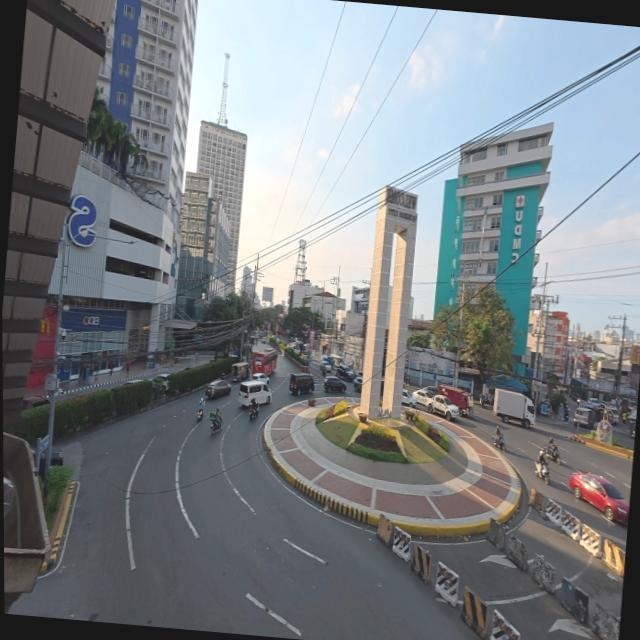Jeepneys: (231, 362, 248, 382)
bus: (251, 349, 277, 375)
car: (569, 473, 629, 524), (426, 395, 457, 420), (205, 379, 230, 398), (410, 388, 434, 406), (573, 407, 593, 428), (22, 396, 48, 410), (323, 376, 345, 392), (337, 364, 354, 381), (151, 374, 168, 391), (401, 390, 416, 408), (604, 407, 618, 424), (250, 373, 268, 386), (352, 374, 363, 392), (38, 451, 45, 477), (121, 378, 143, 386), (319, 361, 331, 375), (423, 386, 437, 397), (588, 398, 599, 408), (633, 430, 640, 444), (355, 371, 362, 379), (288, 342, 295, 349), (260, 337, 267, 344), (320, 355, 327, 361)
motorcycle: (533, 462, 550, 485), (543, 445, 559, 465), (479, 393, 494, 409), (209, 414, 221, 433), (492, 434, 504, 452), (629, 422, 640, 438), (248, 405, 257, 420), (196, 407, 204, 423), (563, 408, 568, 421)
trucks: (492, 389, 534, 428), (438, 385, 472, 416)
vans: (237, 381, 270, 406), (288, 373, 313, 395)
